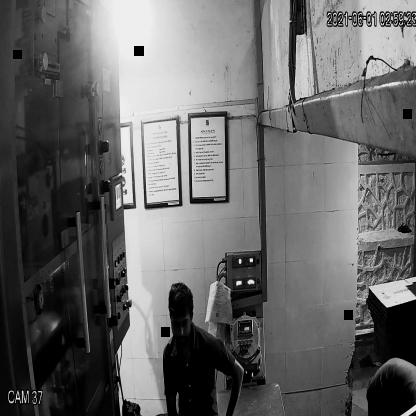no_goggles: (167, 310, 196, 336)
